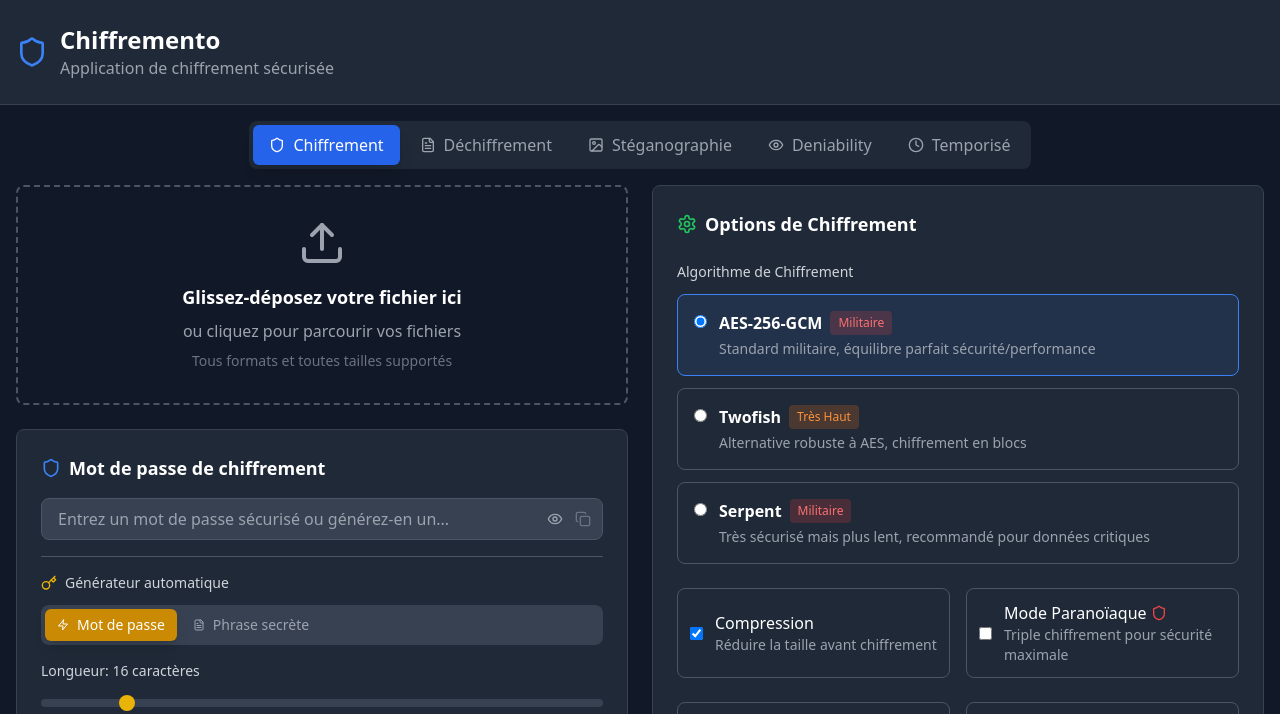
Test: App Integration Tests › should switch between tabs correctly
# Switch to steganography tab by finding the specific tab button
Click the button "Stéganographie" at (660, 145), box left=572, top=125, right=748, bottom=165
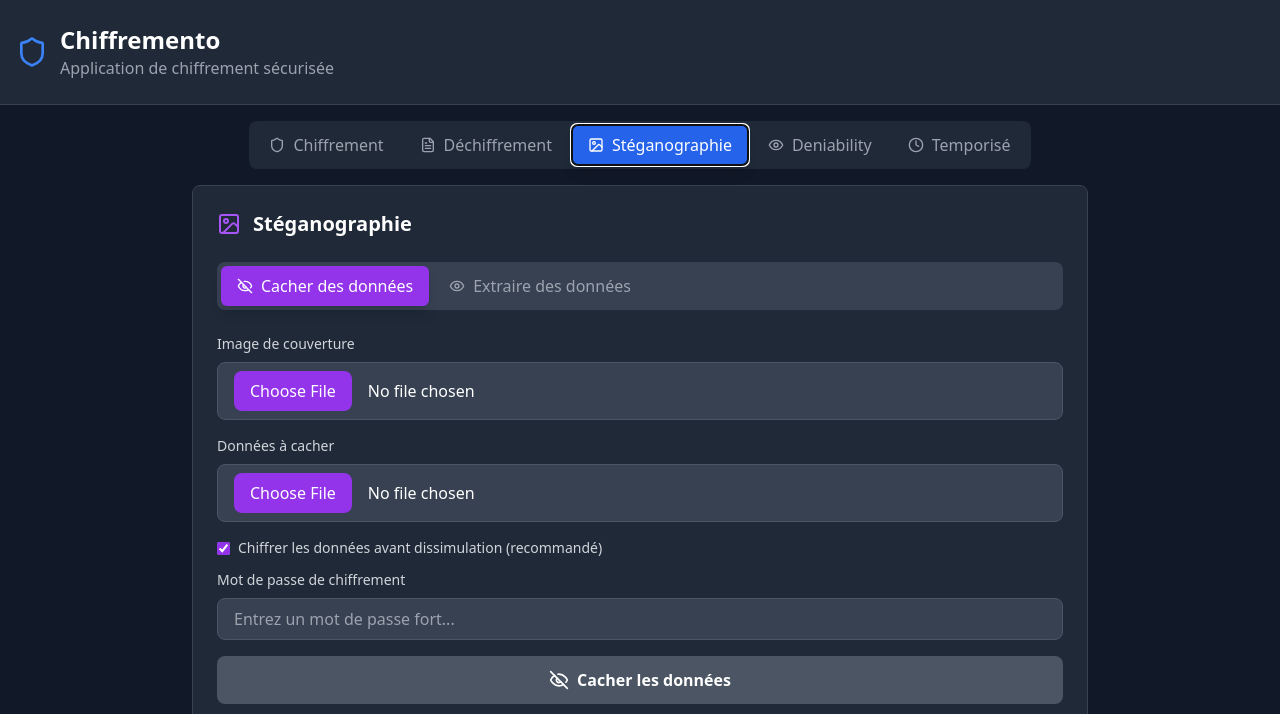
Now the button "Stéganographie" has class "bg-blue-600", box left=572, top=125, right=748, bottom=165
# Switch to deniability tab
Click the button "Deniability" at (820, 145), box left=752, top=125, right=888, bottom=165
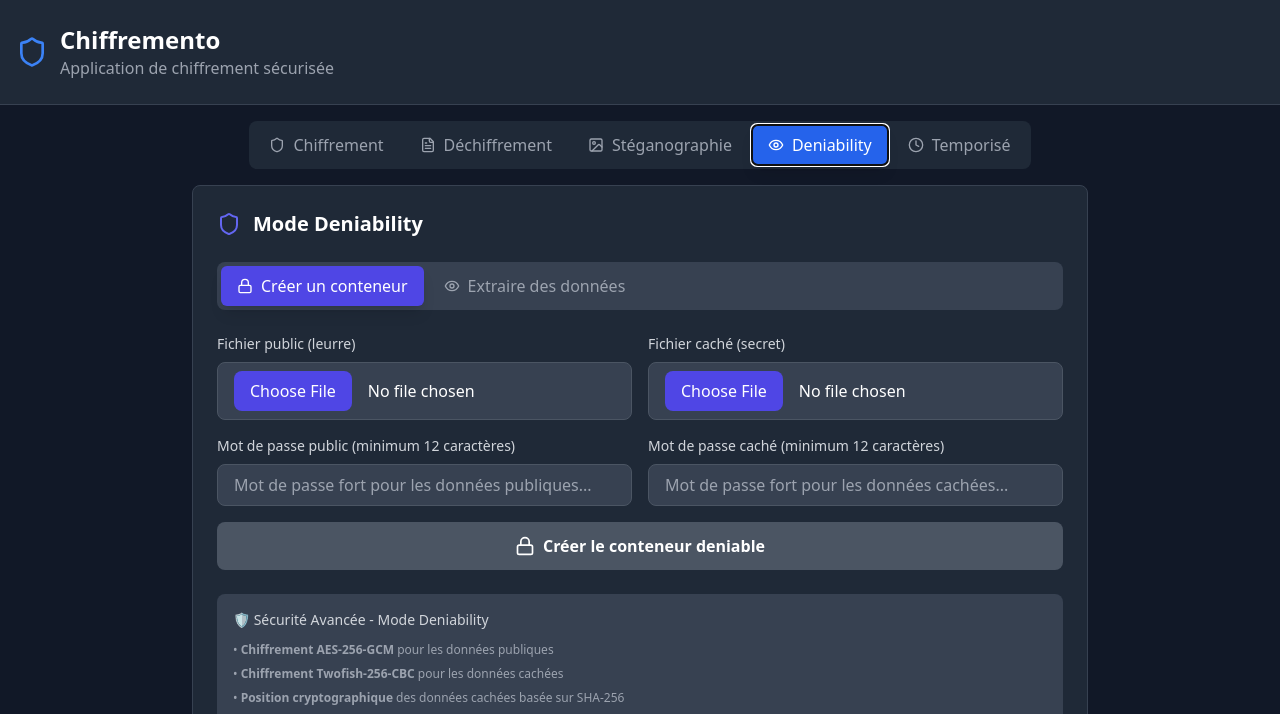
Now the heading "Mode Deniability" is shown, box left=253, top=210, right=423, bottom=238
# Switch to timed encryption tab
Click the button "Temporisé" at (959, 145), box left=892, top=125, right=1026, bottom=165
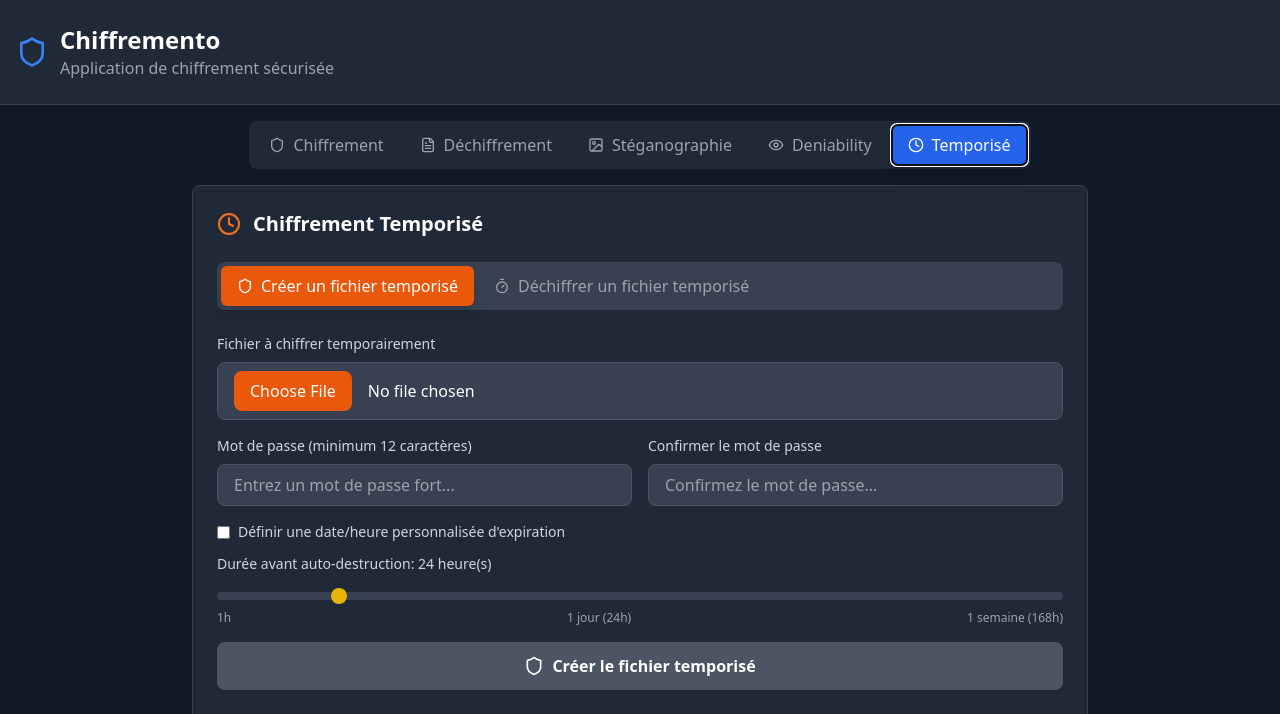
Now the heading "Chiffrement Temporisé" is shown, box left=253, top=210, right=483, bottom=238
